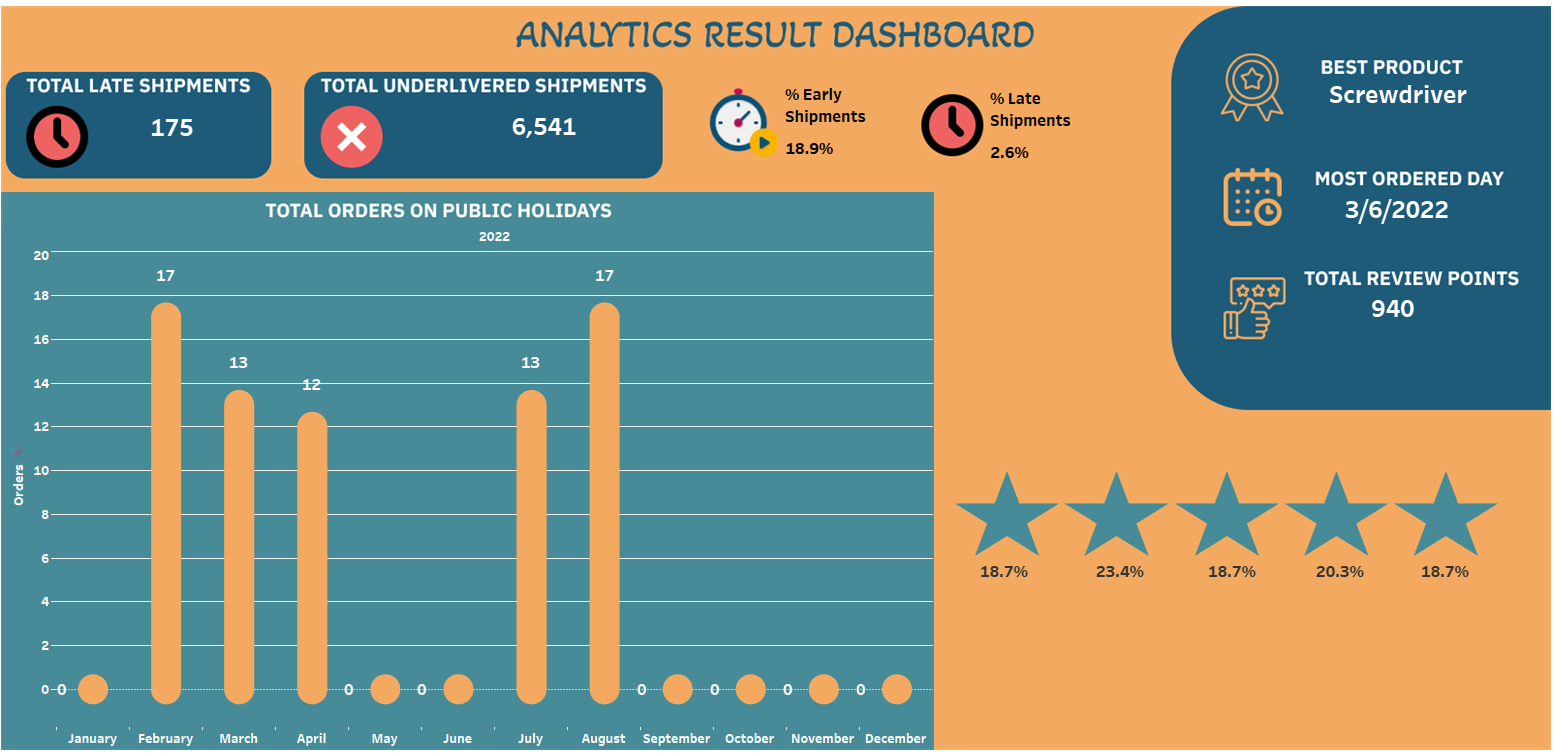

Layout of this report page (visuals, bound fields, positions):
{"tool":"tableau","page":{"name":"Report Dashboard","canvas":[1600,768],"ordinal":0},"visuals":[{"type":"image","param":"C:/Users/oluwaloseyi.sekoni/Desktop/Frame 1.png","box":[8,8,1584,752]},{"type":"worksheet","title":"Sheet 4","mark":"Automatic","box":[1330,82,225,67]},{"type":"worksheet","title":"Sheet 7 (6)","mark":"Automatic","box":[805,85,143,102]},{"type":"worksheet","title":"Sheet 7 (7)","mark":"Automatic","box":[1010,89,184,256]},{"type":"worksheet","title":"Sheet 3","mark":"Automatic","box":[528.3,114,208.5,62]},{"type":"worksheet","title":"Sheet 2","mark":"Automatic","box":[135.9,115,167.5,58]},{"type":"worksheet","title":"Sheet 5","mark":"Automatic","box":[1328,197,240,48]},{"type":"worksheet","title":"Sheet 1","mark":"Line","cols":["Calculation_2079255705193619457","Calculation_2079255705193705474"],"box":[26,232,931,522]},{"type":"worksheet","title":"Sheet 6","mark":"Automatic","box":[1362,296,178,64]},{"type":"worksheet","title":"Sheet 7","mark":"Automatic","box":[995,567,78,69]},{"type":"worksheet","title":"Sheet 7 (2)","mark":"Automatic","box":[1111,567,87,46]},{"type":"worksheet","title":"Sheet 7 (3)","mark":"Automatic","box":[1223,567,81,55]},{"type":"worksheet","title":"Sheet 7 (4)","mark":"Automatic","box":[1331,567,73,62]},{"type":"worksheet","title":"Sheet 7 (5)","mark":"Automatic","box":[1436,567,77,65]}]}

Visuals, with their boxes in screenshot pixels (x1, y1, x2, y2), scaled from the page's 1600x768 canvas onto the 1554x755 screenshot:
image: 8:8:1546:747
"Sheet 4" worksheet: 1292:81:1510:146
"Sheet 7 (6)" worksheet: 782:84:921:184
"Sheet 7 (7)" worksheet: 981:87:1160:339
"Sheet 3" worksheet: 513:112:716:173
"Sheet 2" worksheet: 132:113:295:170
"Sheet 5" worksheet: 1290:194:1523:241
"Sheet 1" worksheet (Line marks): 25:228:929:741
"Sheet 6" worksheet: 1323:291:1496:354
"Sheet 7" worksheet: 966:557:1042:625
"Sheet 7 (2)" worksheet: 1079:557:1164:603
"Sheet 7 (3)" worksheet: 1188:557:1267:611
"Sheet 7 (4)" worksheet: 1293:557:1364:618
"Sheet 7 (5)" worksheet: 1395:557:1470:621
